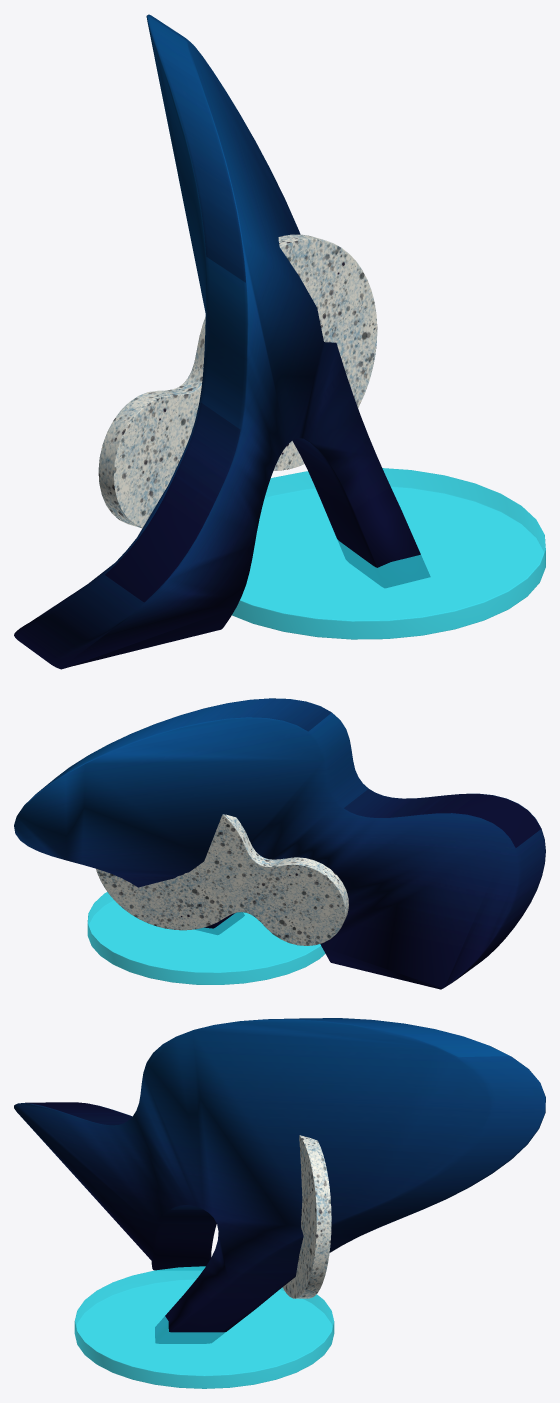
Rendered from NightskyWater (copy).glb.
3 views of the same model, one above another, from view 1: azimuth 30°, elevation 25°; view 2: azimuth 150°, elevation 25°; view 3: azimuth 270°, elevation 25° (orthographic). The views are drawn at different scales.
Parts seen in each view (by area): view 1: Organic Shapes #4, Flat Cylinder, Joined Circles; view 2: Organic Shapes #4, Joined Circles, Flat Cylinder; view 3: Organic Shapes #4, Flat Cylinder, Joined Circles.
Boxes of the visible parts, x1,y1,x2,y2 form: Organic Shapes #4: (14,14,430,669); Flat Cylinder: (232,468,545,639); Joined Circles: (98,234,377,528); Organic Shapes #4: (14,698,545,989); Joined Circles: (96,814,348,945); Flat Cylinder: (87,892,325,984); Organic Shapes #4: (14,1018,545,1343); Flat Cylinder: (74,1266,334,1388); Joined Circles: (282,1135,331,1298).
Bounding box in the file's own units: 0.3011 × 0.2189 × 0.3634.
3 materials, 2 textured.
